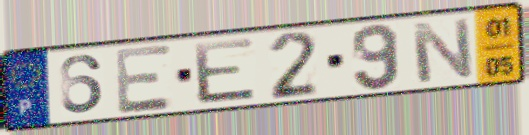2: (266, 30, 320, 103)
6: (58, 53, 108, 117)
9: (349, 21, 403, 93)
E: (190, 35, 260, 107), (112, 41, 175, 116)
N: (408, 16, 477, 86)
